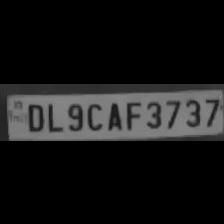3: (142, 97, 162, 128), (182, 95, 200, 127)
7: (163, 96, 181, 128), (202, 95, 220, 127)
9: (63, 99, 83, 130)
A: (103, 98, 123, 130)
C: (84, 99, 104, 130)
D: (23, 100, 44, 132)
F: (122, 98, 142, 130)
L: (44, 99, 61, 131)
